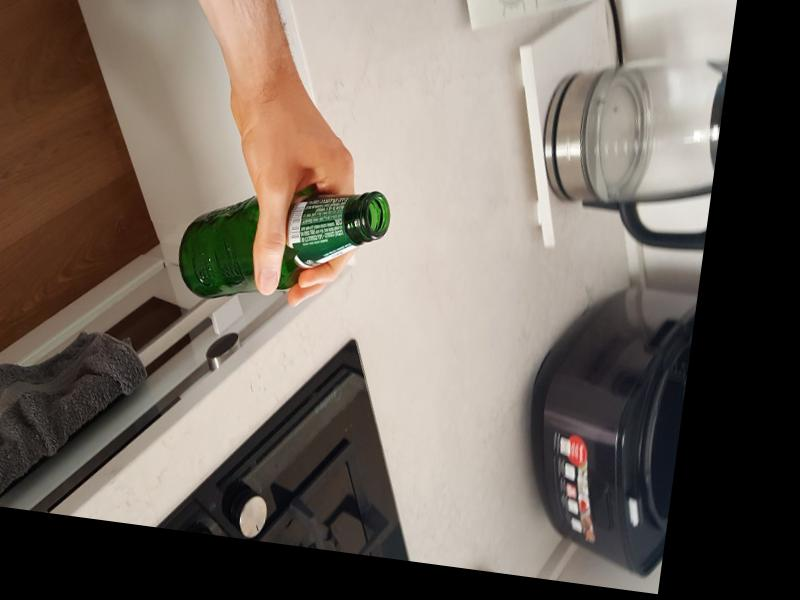Beer: (171, 166, 392, 321)
